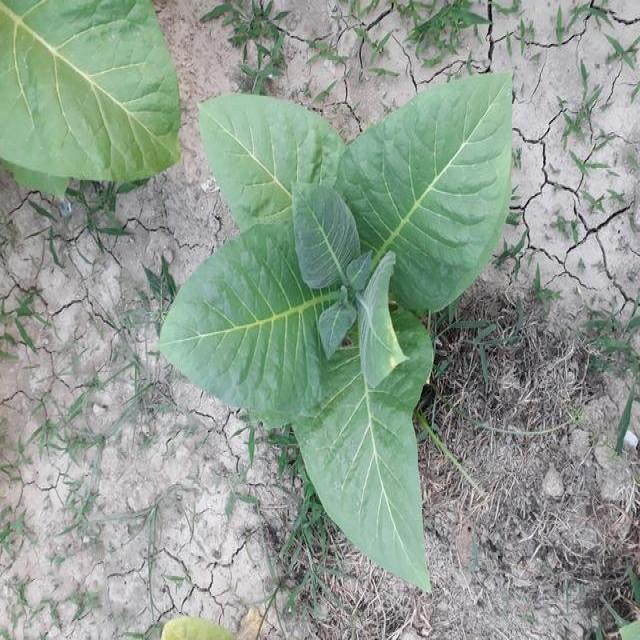crop: (162, 66, 528, 582)
